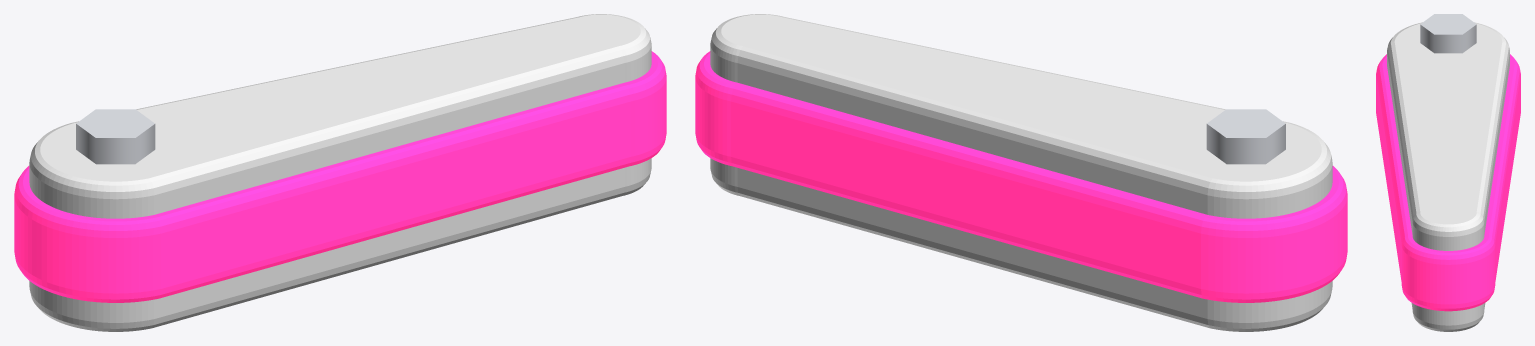
Rendered from pp_flipper.glb.
The picture shows the model from 3 angles, left to right: view 1: azimuth 30°, elevation 25°; view 2: azimuth 150°, elevation 25°; view 3: azimuth 270°, elevation 25°; orthographic projection. The views are drawn at different scales.
Visible parts, largest first — view 1: Bat, Rubber, Pivot; view 2: Bat, Rubber, Pivot; view 3: Bat, Rubber, Pivot.
Part boxes in pixels (x1,y1,x2,y2): Bat: [29, 14, 651, 331]; Rubber: [14, 51, 666, 302]; Pivot: [76, 109, 155, 164]; Bat: [710, 14, 1332, 331]; Rubber: [695, 51, 1347, 302]; Pivot: [1206, 109, 1285, 164]; Bat: [1387, 22, 1509, 331]; Rubber: [1376, 54, 1520, 311]; Pivot: [1420, 14, 1476, 53].
Bounding box in the file's own units: 0.1012 × 0.027 × 0.0282.
